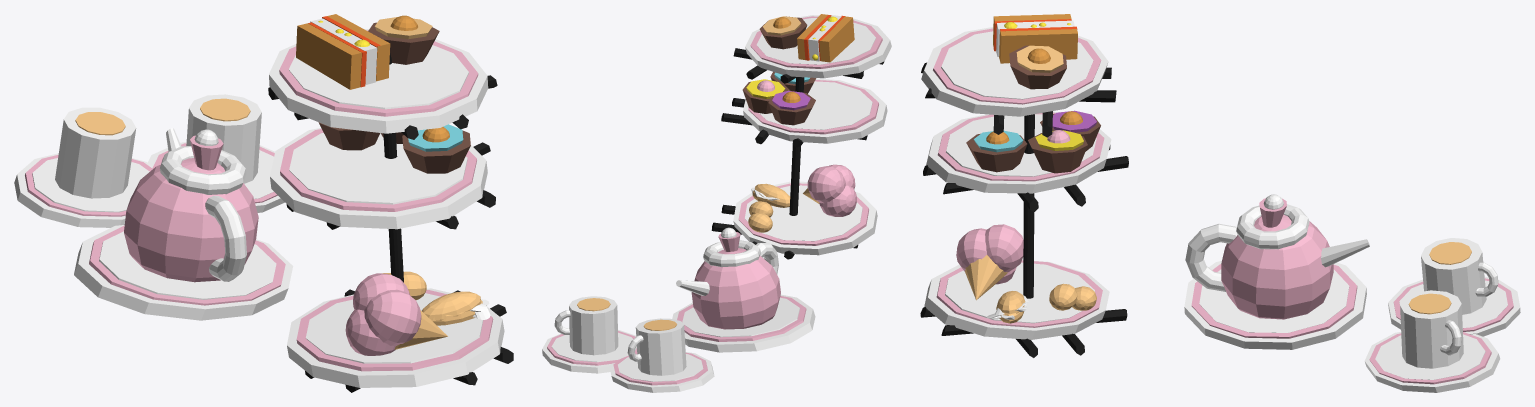
The model's file is Teapot3.obj.
3 renders of one model, left to right at view 1: azimuth 30°, elevation 25°; view 2: azimuth 150°, elevation 25°; view 3: azimuth 270°, elevation 25°, orthographic. The views are drawn at different scales.
Parts seen in each view (by area): view 1: group1736567694, group539582967, group594433126, group155862790, group25697790, group1143467528, group2035217733, group910136804, group960989900, group1379212699, group997739265, group1977361927 (+2 smaller); view 2: group1736567694, group539582967, group594433126, group910136804, group155862790, group2035217733, group1143467528, group25697790, group1977361927, group1296411761, group1379212699, group1417609468 (+3 smaller); view 3: group1736567694, group539582967, group594433126, group1977361927, group910136804, group155862790, group25697790, group1143467528, group2035217733, group1379212699, group1417609468, group960989900 (+3 smaller).
Part boxes in pixels (x1=…): group1736567694: x1=268, y1=29, x2=513, y2=392; group539582967: x1=124, y1=128, x2=258, y2=282; group594433126: x1=74, y1=225, x2=293, y2=320; group155862790: x1=55, y1=107, x2=136, y2=198; group25697790: x1=345, y1=273, x2=447, y2=355; group1143467528: x1=296, y1=14, x2=390, y2=89; group2035217733: x1=14, y1=153, x2=152, y2=227; group910136804: x1=186, y1=94, x2=261, y2=183; group960989900: x1=402, y1=124, x2=470, y2=173; group1379212699: x1=368, y1=15, x2=439, y2=64; group997739265: x1=422, y1=291, x2=490, y2=325; group1977361927: x1=148, y1=142, x2=284, y2=212; group1736567694: x1=711, y1=15, x2=891, y2=259; group539582967: x1=676, y1=227, x2=780, y2=329; group594433126: x1=672, y1=294, x2=815, y2=352; group910136804: x1=554, y1=296, x2=618, y2=355; group155862790: x1=627, y1=318, x2=686, y2=375; group2035217733: x1=609, y1=352, x2=714, y2=392; group1143467528: x1=797, y1=14, x2=854, y2=62; group25697790: x1=803, y1=164, x2=856, y2=216; group1977361927: x1=542, y1=330, x2=637, y2=373; group1296411761: x1=768, y1=90, x2=815, y2=125; group1379212699: x1=759, y1=16, x2=807, y2=49; group1417609468: x1=742, y1=79, x2=790, y2=113; group1736567694: x1=920, y1=27, x2=1128, y2=357; group539582967: x1=1185, y1=194, x2=1369, y2=319; group594433126: x1=1184, y1=260, x2=1366, y2=349; group1977361927: x1=1364, y1=332, x2=1500, y2=392; group910136804: x1=1400, y1=290, x2=1463, y2=368; group155862790: x1=1421, y1=238, x2=1498, y2=314; group25697790: x1=956, y1=224, x2=1023, y2=300; group1143467528: x1=993, y1=14, x2=1077, y2=63; group2035217733: x1=1388, y1=276, x2=1520, y2=336; group1379212699: x1=1009, y1=45, x2=1066, y2=89; group1417609468: x1=1028, y1=130, x2=1087, y2=173; group960989900: x1=966, y1=130, x2=1027, y2=172.
Size of the model in its own units: 0.6989 by 0.8112 by 1.46.
